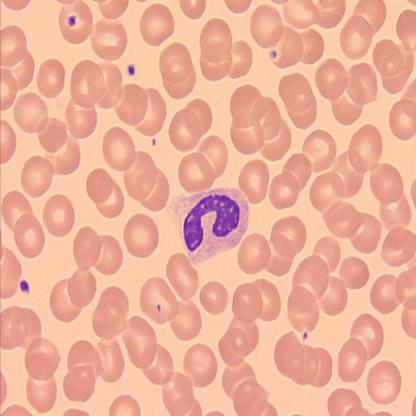Band Neutrophil: (164, 184, 251, 268)
